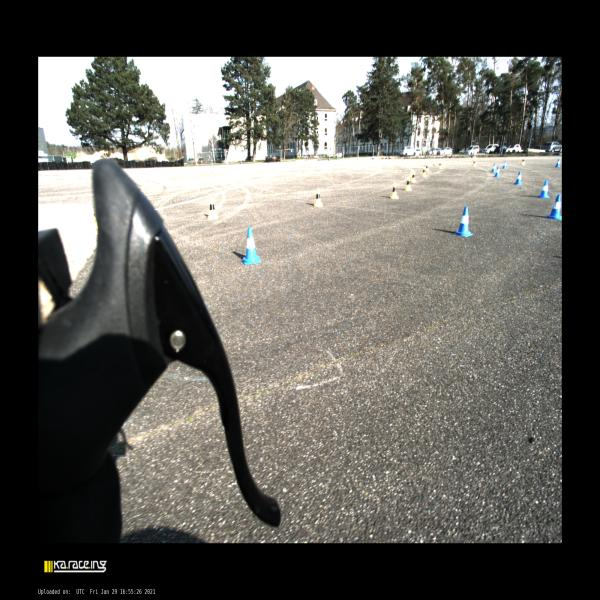blue_cone: (242, 226, 262, 265), (453, 206, 473, 237), (545, 194, 562, 220), (538, 180, 550, 198), (514, 171, 522, 185), (494, 166, 500, 177), (554, 158, 560, 168), (491, 163, 496, 173), (502, 160, 507, 169)
yellow_cone: (207, 197, 218, 220), (314, 187, 323, 207), (390, 182, 399, 199), (405, 176, 412, 191), (411, 170, 416, 183), (520, 157, 526, 165), (422, 166, 426, 176), (472, 158, 476, 167), (426, 164, 430, 172), (438, 161, 442, 169)
